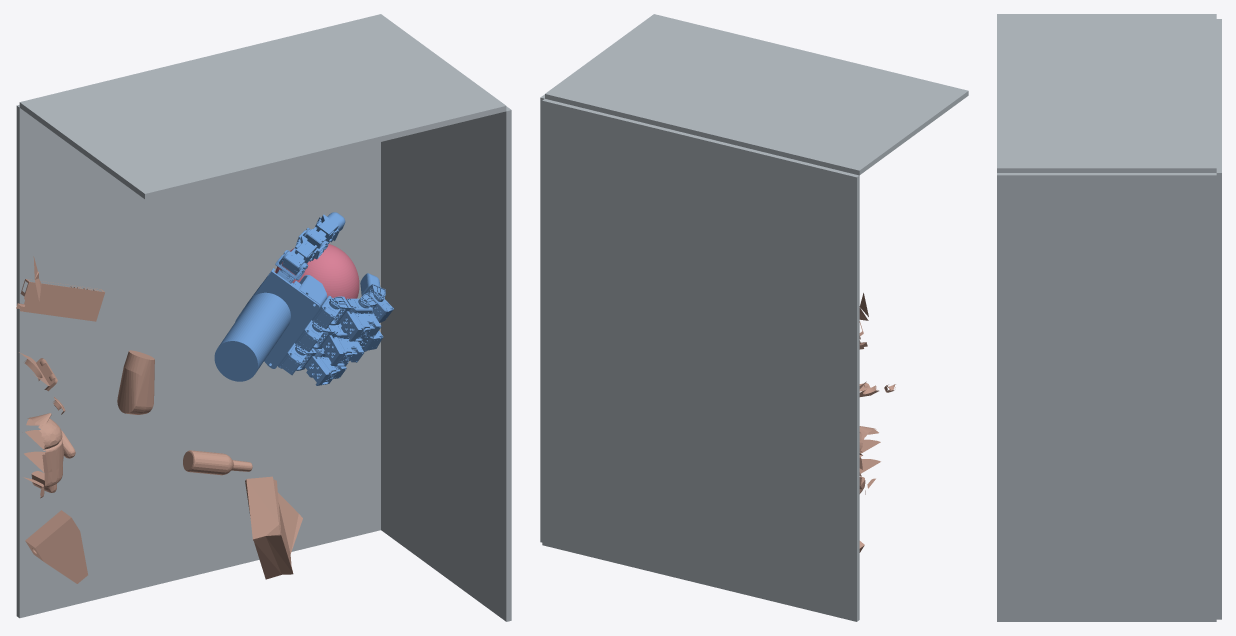
3 renders of one model, left to right at view 1: azimuth 30°, elevation 25°; view 2: azimuth 150°, elevation 25°; view 3: azimuth 270°, elevation 25°, orthographic. The views are drawn at different scales.
Visible parts, largest first — view 1: environment, hand, obstacle_002, obstacle_005, obstacle_001, obstacle_003, obstacle_007, world, obstacle_004, obstacle_000; view 2: environment, obstacle_003; view 3: environment.
Boxes of the visible parts, <box> form: environment: <box>16,14,511,621</box>; hand: <box>214,212,393,385</box>; obstacle_002: <box>245,476,302,579</box>; obstacle_005: <box>25,510,87,583</box>; obstacle_001: <box>16,279,104,321</box>; obstacle_003: <box>23,413,75,498</box>; obstacle_007: <box>117,350,154,414</box>; world: <box>275,244,359,299</box>; obstacle_004: <box>183,450,252,475</box>; obstacle_000: <box>19,352,65,414</box>; environment: <box>540,14,968,621</box>; obstacle_003: <box>859,426,880,494</box>; environment: <box>997,14,1221,621</box>.
Size of the model in its own units: 0.5728 by 0.747 by 0.337.
